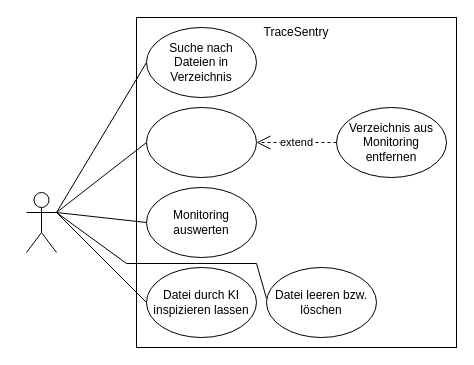
Some shapes in this 474 by 365 pixel diagram are drawn without their labels. The centre of each missing label's shape, as x and y in pixels:
"Benutzer" goes at (x=41, y=222).
"Verzeichnis in Monitoring aufnehmen" goes at (x=201, y=142).
